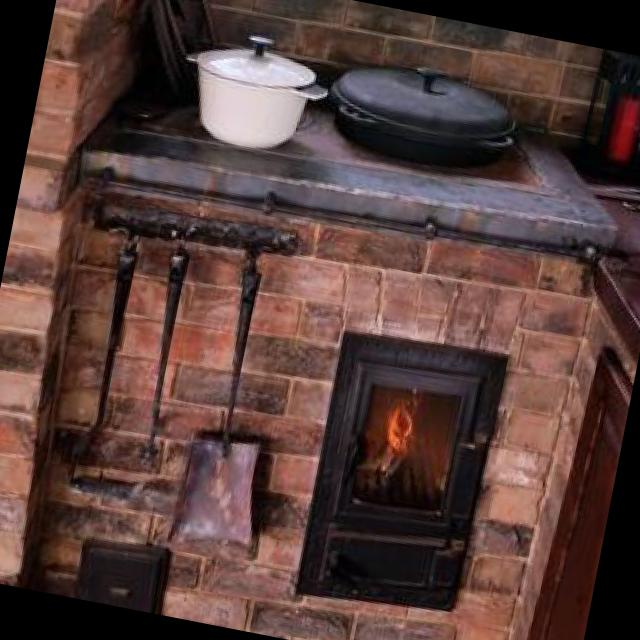Fire: (364, 379, 433, 496)
